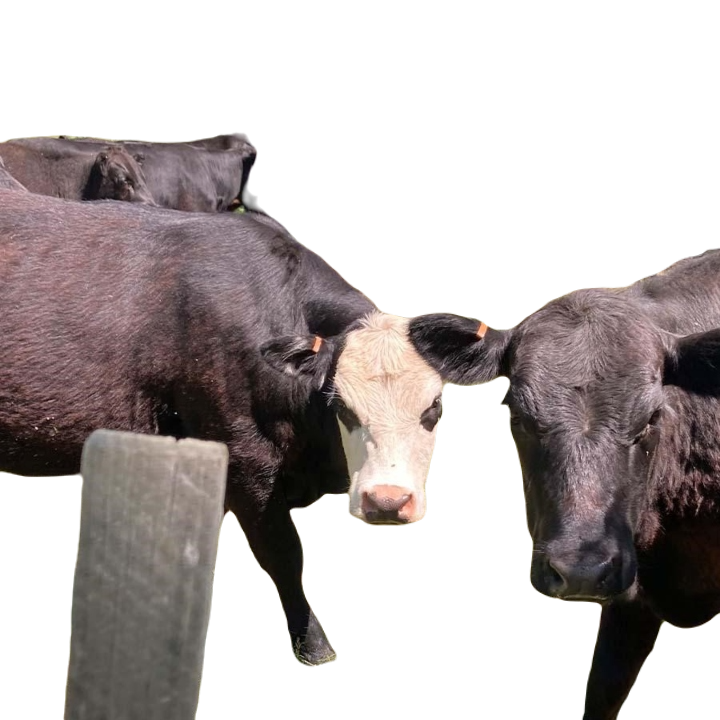Cow: (405, 246, 719, 719)
